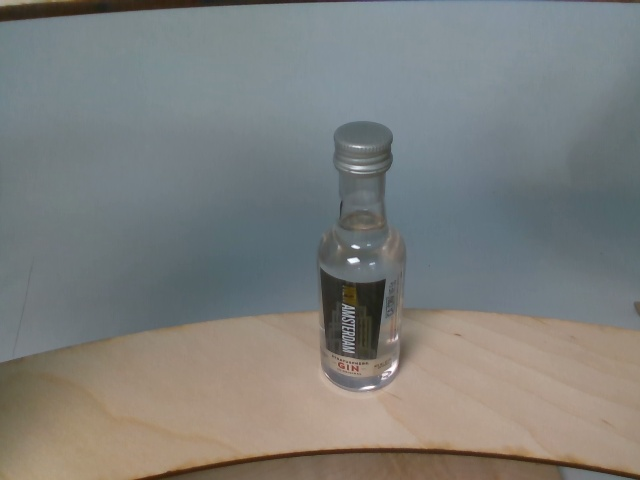gin: (319, 122, 406, 393)
